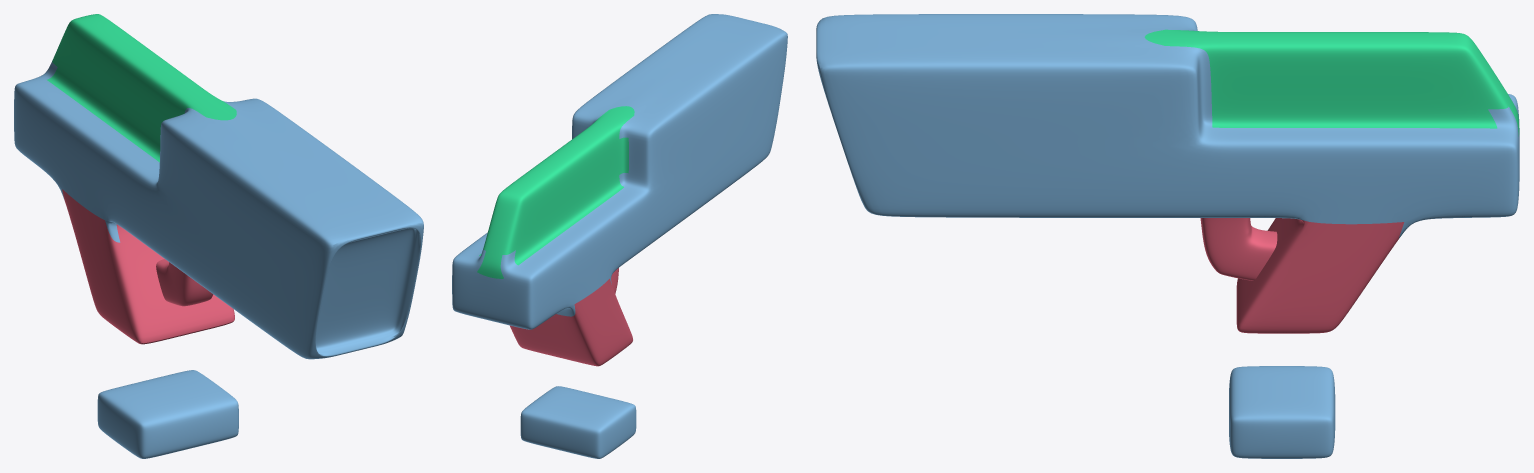
File: BBGun.fbx
The picture shows the model from 3 angles, left to right: view 1: azimuth 30°, elevation 25°; view 2: azimuth 150°, elevation 25°; view 3: azimuth 270°, elevation 25°; orthographic projection. The views are drawn at different scales.
Visible parts, largest first — view 1: Cube.004; view 2: Cube.004; view 3: Cube.004.
Part boxes in pixels (x1,y1,x2,y2): Cube.004: (14,14,423,458); Cube.004: (452,14,787,458); Cube.004: (816,14,1519,458).
Size of the model in its own units: 30.2 by 102 by 163.
